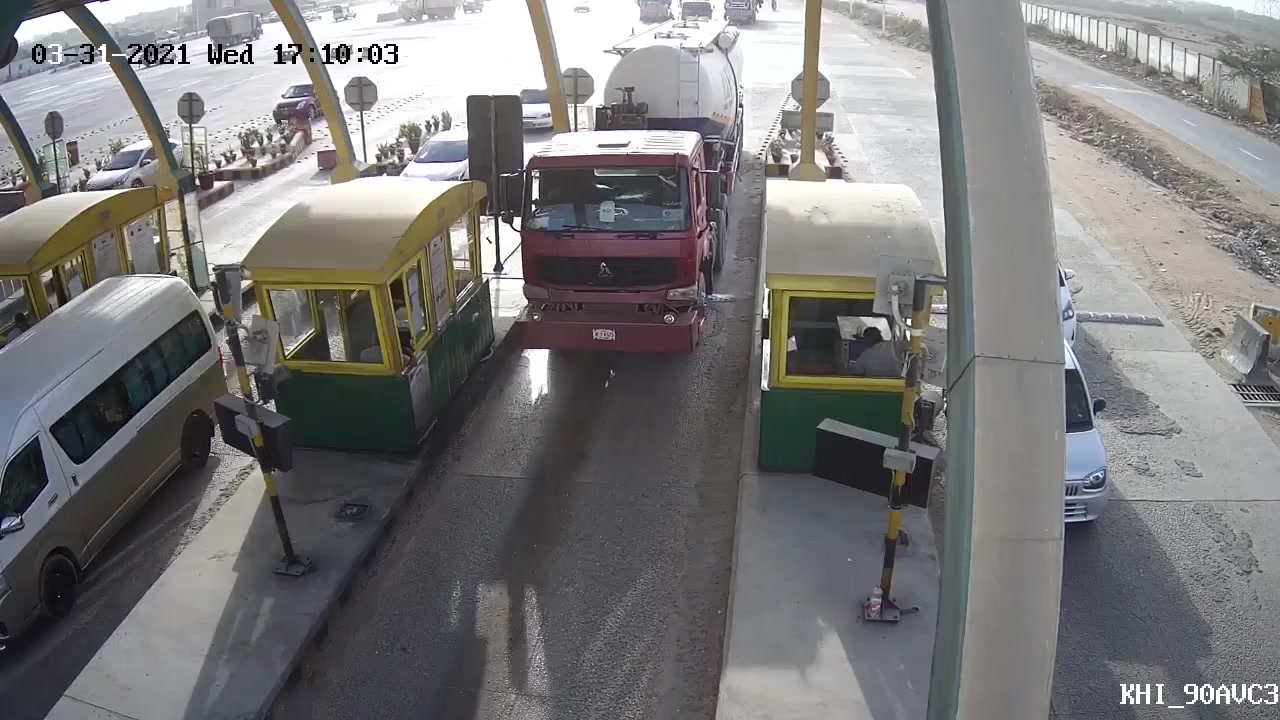F6: (498, 43, 737, 379)
